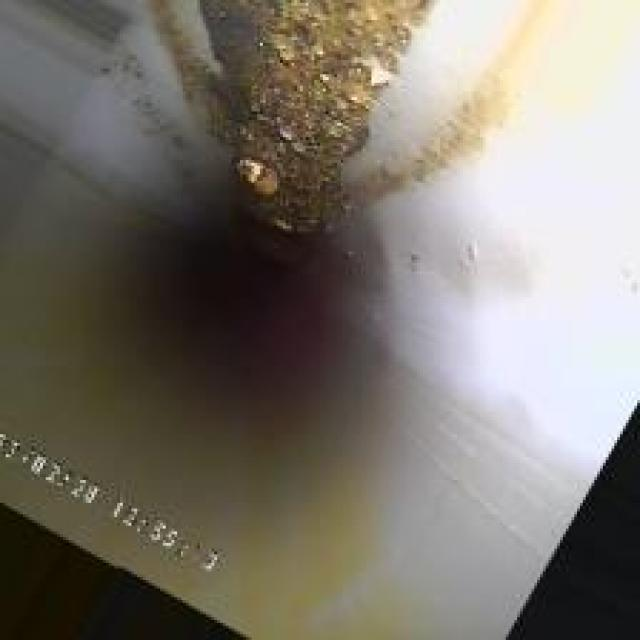stone: (208, 134, 288, 217)
